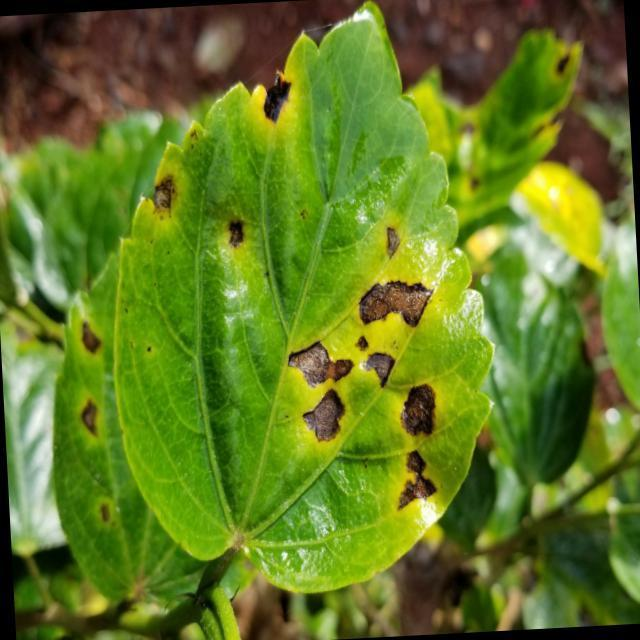Bacterial Spot: (272, 222, 460, 545), (141, 157, 263, 271), (64, 304, 122, 538)
